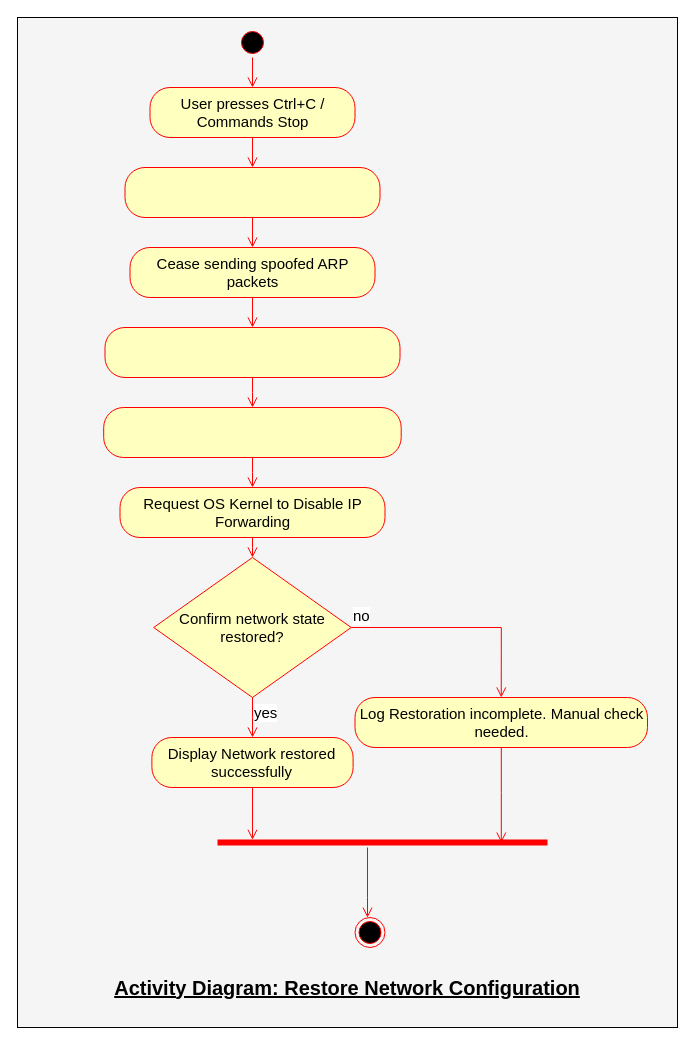
This 695x1045 diagram has some shape labels left out. The shapes that lost their labels are listed below. From the top down, each one's box as (x1, y1, x2, y2) in pixels, then its label:
(124, 166, 380, 218): Project Janus Script detects stop command
(104, 326, 400, 378): Retrieve original MACs for Gateway & Victim
(103, 406, 401, 458): Send legitimate ARP replies to Gateway & Victim
